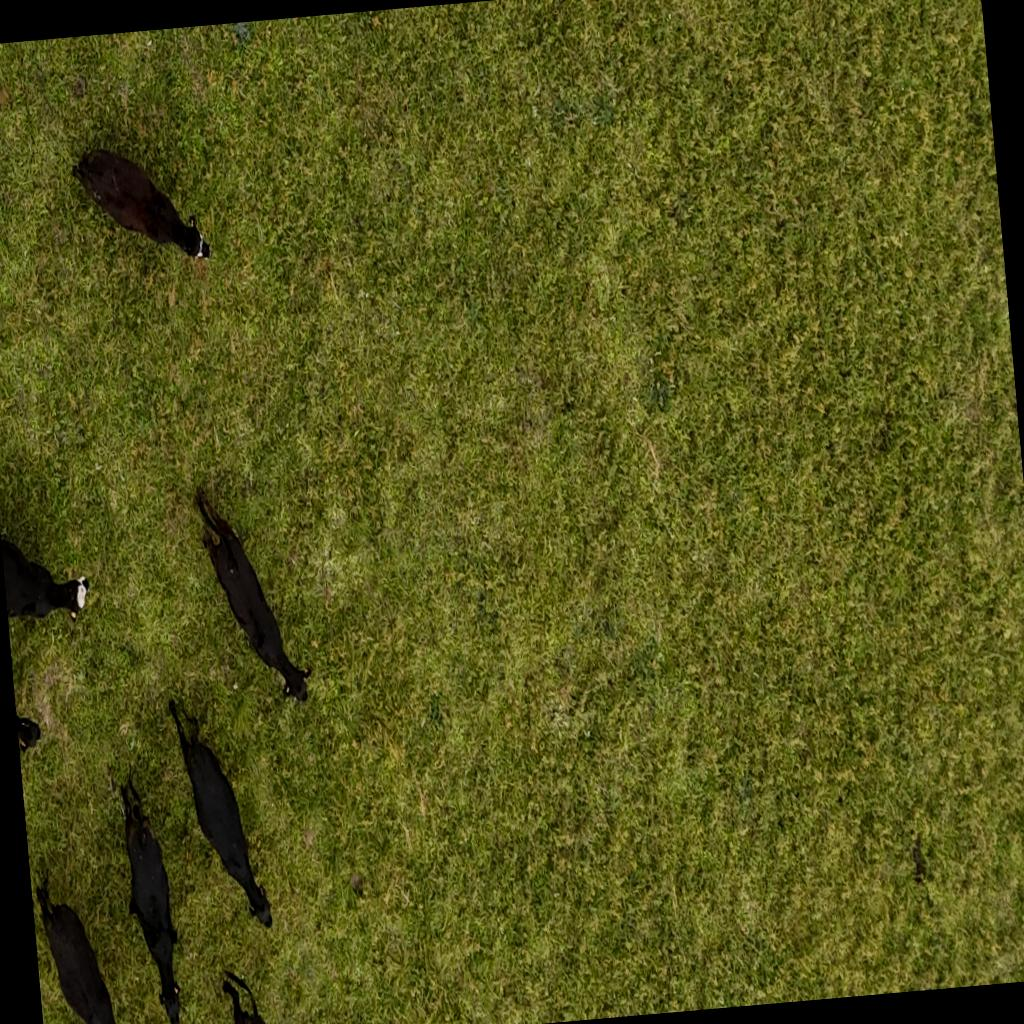cow: (194, 478, 314, 714), (170, 695, 274, 938), (70, 136, 214, 276), (113, 765, 188, 1024), (34, 863, 143, 1024)
